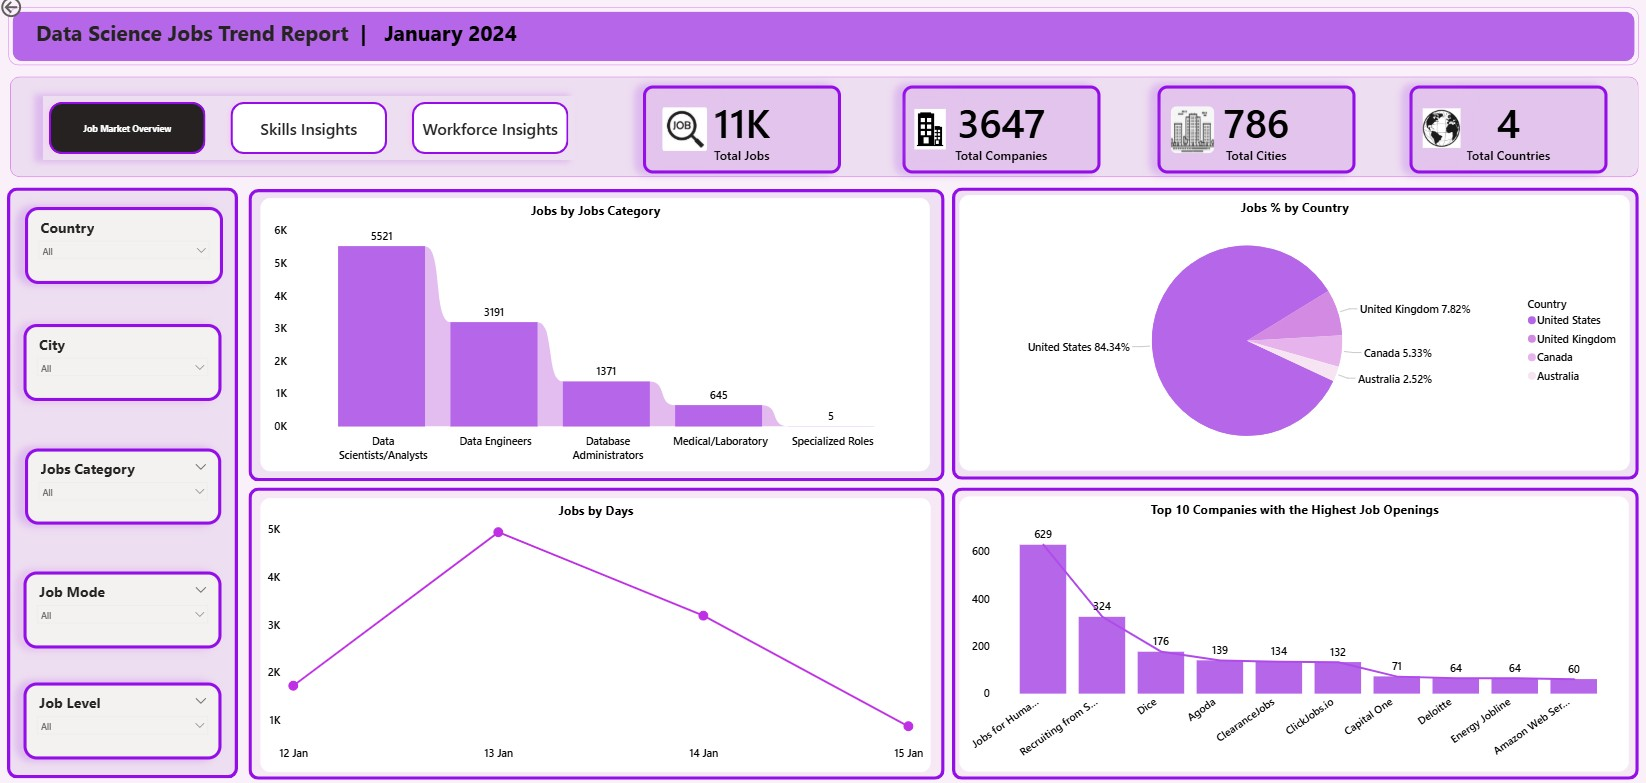

The dashboard page shown, as its layout file describes it:
{"tool":"powerbi","page":{"name":"Job Market Overview","canvas":[2500,1200],"ordinal":0},"visuals":[{"type":"shape","box":[15,20,2470,87.5],"z":0},{"type":"textbox","box":[40,31.7,506.7,55],"z":1000},{"type":"shape","box":[17.5,125,2467.5,152.5],"z":2000},{"type":"shape","box":[14.3,292.9,350,895.2],"z":3000},{"type":"actionButton","box":[0,0,100,40],"z":4000},{"type":"card","fields":{"Values":["Table.Total Jobs"]},"box":[976.2,138.1,300,133.3],"z":5000},{"type":"shape","box":[378.6,295.2,1054.8,442.9],"z":6000},{"type":"slicer","fields":{"Values":["public vw_jobs_by_country.Country"]},"box":[40,321.7,300,116.7],"z":7000},{"type":"slicer","fields":{"Values":["public vw_jobs_by_city.City"]},"box":[38.3,500,300,116.7],"z":8000},{"type":"slicer","fields":{"Values":["public vw_jobs_by_level.Job Level"]},"box":[38.3,1043.3,300,116.7],"z":9000},{"type":"slicer","fields":{"Values":["public vw_jobs_by_mode.Job Mode"]},"box":[38.3,875,300,116.7],"z":10000},{"type":"slicer","fields":{"Values":["public vw_jobs_by_category.Jobs Category"]},"box":[40,687.5,297.5,115],"z":11000},{"type":"pageNavigator","box":[67.5,155,805,97.5],"z":12000},{"type":"shape","box":[378.6,747.6,1054.8,442.9],"z":13000},{"type":"shape","box":[1445.2,292.9,1040.5,442.9],"z":14000},{"type":"shape","box":[1445.2,747.6,1040.5,442.9],"z":15000},{"type":"columnChart","title":"Jobs by Jobs Category","fields":{"Category":["public vw_jobs_by_category.Jobs Category"],"Y":["Sum(public vw_jobs_by_category.Jobs Count)"]},"box":[397.6,309.5,1014.3,414.3],"z":16000},{"type":"lineClusteredColumnComboChart","title":"Top 10 Companies with the Highest Job Openings","fields":{"Category":["mv_top_10_companies.Company"],"Y2":["Sum(mv_top_10_companies.Jobs Count)"],"Y":["Sum(mv_top_10_companies.Jobs Count)"]},"box":[1457.1,761.9,1014.3,416.7],"z":17000},{"type":"lineChart","title":"Jobs by Days","fields":{"Category":["public vw_jobs_trend_daily.Days.Variation.Date Hierarchy.Year","public vw_jobs_trend_daily.Days.Variation.Date Hierarchy.Quarter","public vw_jobs_trend_daily.Days.Variation.Date Hierarchy.Month","public vw_jobs_trend_daily.Days.Variation.Date Hierarchy.Day"],"Y":["Sum(public vw_jobs_trend_daily.Jobs Count)"]},"box":[397.5,762.5,1015,415],"z":18000},{"type":"pieChart","title":"Jobs % by Country","fields":{"Category":["public vw_jobs_by_country.Country"],"Y":["Sum(public vw_jobs_by_country.Jobs Count)"]},"box":[1457.5,305,1015,417.5],"z":19000},{"type":"textbox","box":[512.5,32.5,307.5,65],"z":20000},{"type":"card","fields":{"Values":["Table.Total Companies"]},"box":[1371.4,138.1,300,133.3],"z":21000},{"type":"card","fields":{"Values":["Table.Total Cities"]},"box":[1757.1,138.1,300,133.3],"z":22000},{"type":"card","fields":{"Values":["Table.Total Countries"]},"box":[2138.1,138.1,300,133.3],"z":23000},{"type":"image","box":[996.7,159.7,85.8,91.7],"z":24000},{"type":"image","box":[1379.3,156,65.5,96.6],"z":25000},{"type":"image","box":[1767.2,160.3,83.6,88.8],"z":26000},{"type":"image","box":[2150,154.3,75,98.3],"z":27000}]}

Visuals, with their boxes on the page's 2500x1200 design canvas (x1, y1, x2, y2). These are canvas units, not pixel positions in the 1646x783 screenshot, which may show the page scaled, cropped or inside an application window:
shape: 15:20:2485:108
textbox: 40:32:547:87
shape: 18:125:2485:278
shape: 14:293:364:1188
actionButton: 0:0:100:40
card - Table.Total Jobs: 976:138:1276:271
shape: 379:295:1433:738
slicer - public vw_jobs_by_country.Country: 40:322:340:438
slicer - public vw_jobs_by_city.City: 38:500:338:617
slicer - public vw_jobs_by_level.Job Level: 38:1043:338:1160
slicer - public vw_jobs_by_mode.Job Mode: 38:875:338:992
slicer - public vw_jobs_by_category.Jobs Category: 40:688:338:802
pageNavigator: 68:155:872:252
shape: 379:748:1433:1190
shape: 1445:293:2486:736
shape: 1445:748:2486:1190
"Jobs by Jobs Category" columnChart: 398:310:1412:724
"Top 10 Companies with the Highest Job Openings" lineClusteredColumnComboChart: 1457:762:2471:1179
"Jobs by Days" lineChart: 398:762:1412:1178
"Jobs % by Country" pieChart: 1458:305:2472:722
textbox: 512:32:820:98
card - Table.Total Companies: 1371:138:1671:271
card - Table.Total Cities: 1757:138:2057:271
card - Table.Total Countries: 2138:138:2438:271
image: 997:160:1082:251
image: 1379:156:1445:253
image: 1767:160:1851:249
image: 2150:154:2225:253
